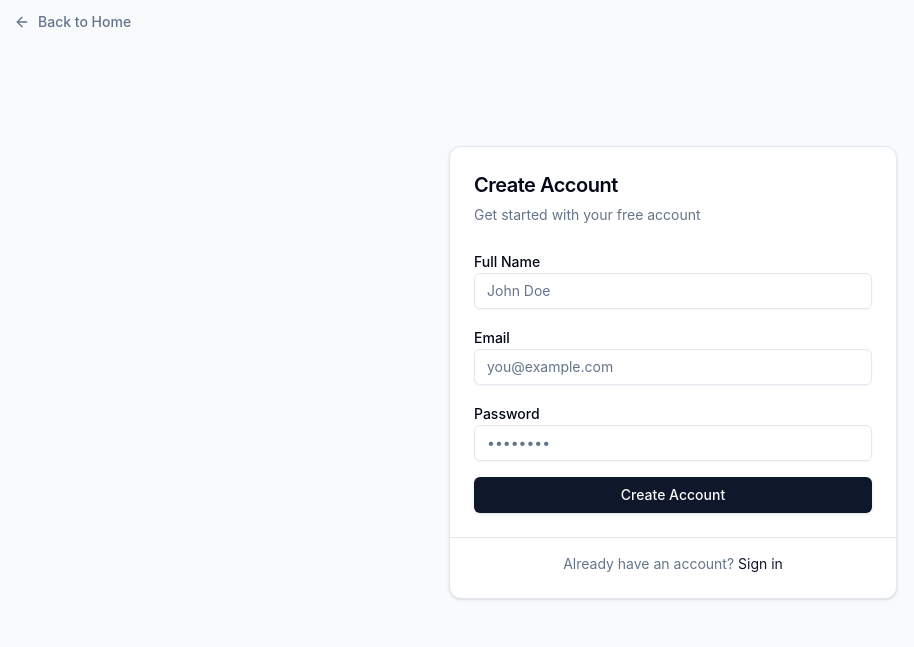
Test: Register Component › shows validation errors for empty fields
Click the button "Create Account" at (673, 494), box left=474, top=476, right=872, bottom=512
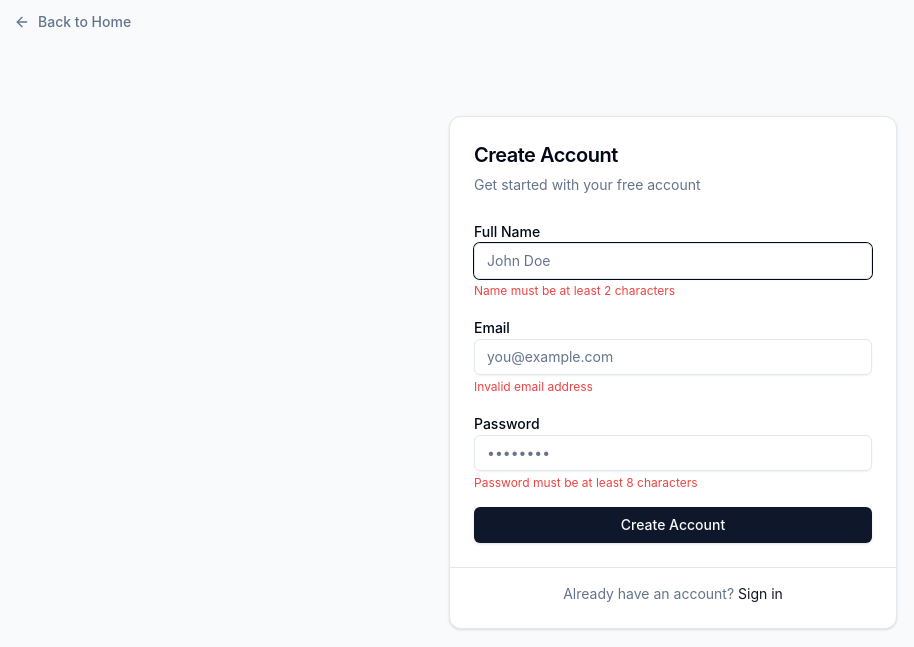
Check: the text "Name must be at least 2 characters" is shown, box left=474, top=282, right=675, bottom=298
Check: the text "Invalid email address" is shown, box left=474, top=378, right=593, bottom=394
Check: the text "Password must be at least 8 characters" is shown, box left=474, top=474, right=698, bottom=490
